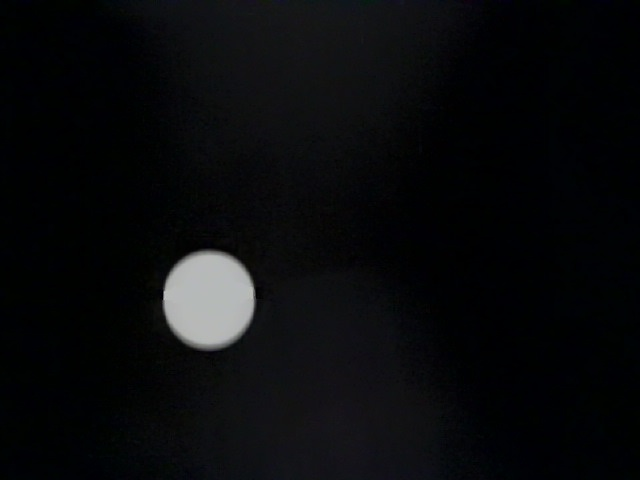YHLJ: (347, 74, 446, 218)
